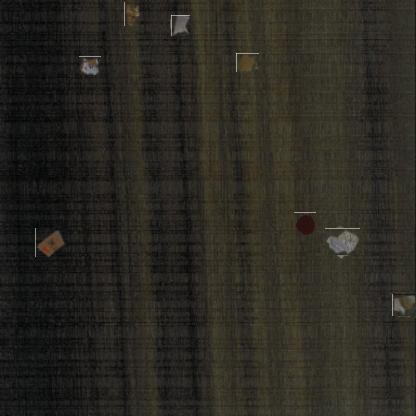dirty: (327, 226, 358, 258), (35, 228, 66, 258), (393, 293, 416, 317), (170, 15, 191, 36), (80, 56, 102, 75), (124, 2, 141, 26)
liquid: (294, 212, 316, 235), (236, 53, 259, 72)
